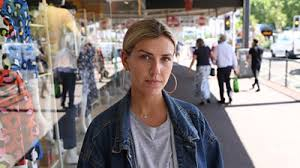no-mask: (120, 18, 176, 98)
